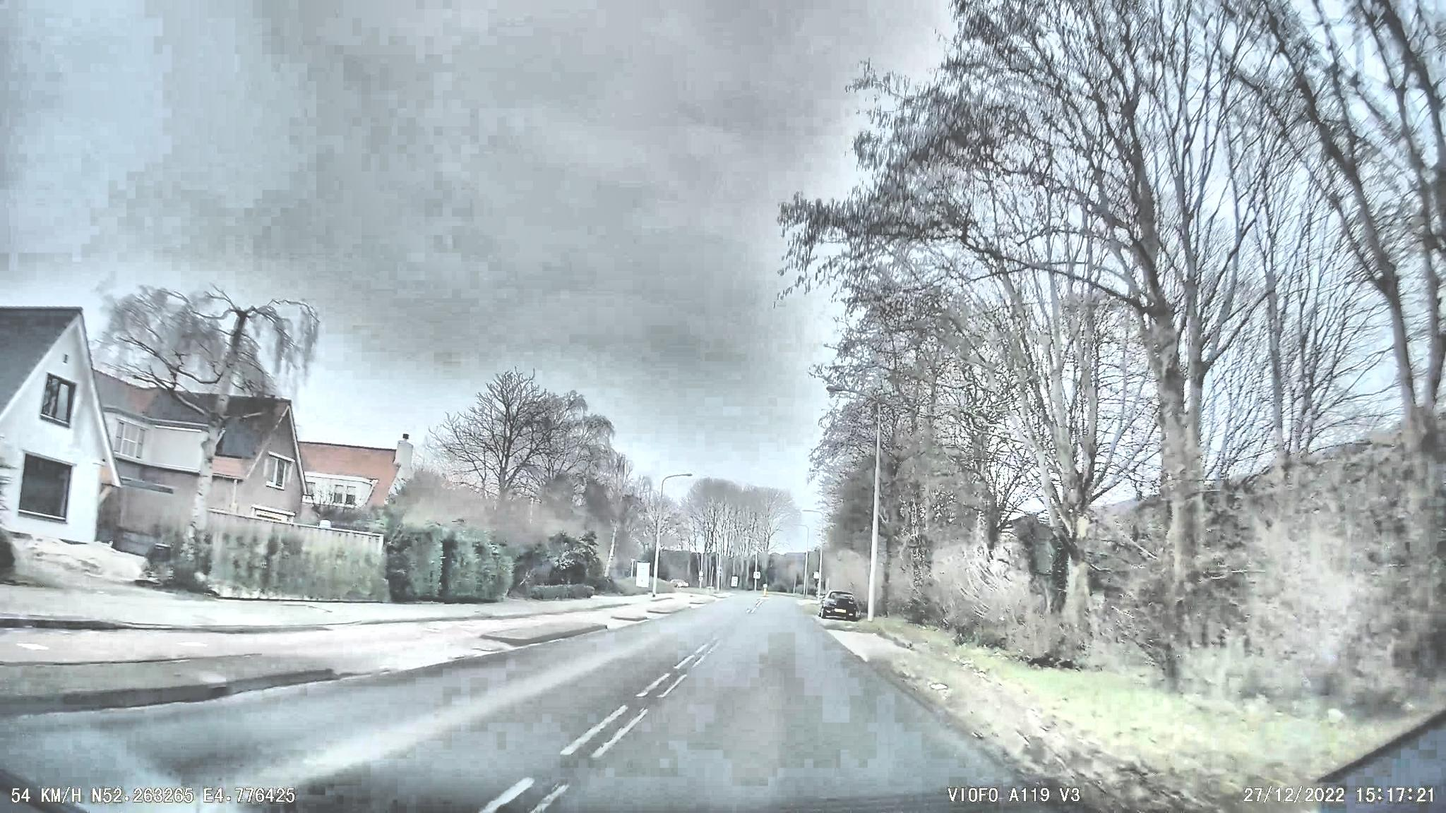Roads: (0, 597, 1078, 813)
